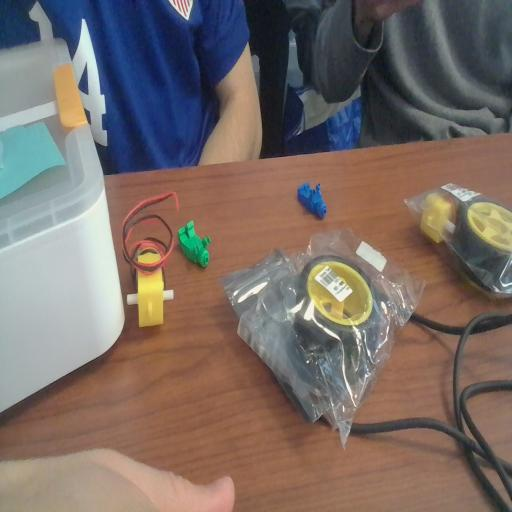green LEGO minifig: (175, 220, 215, 271)
